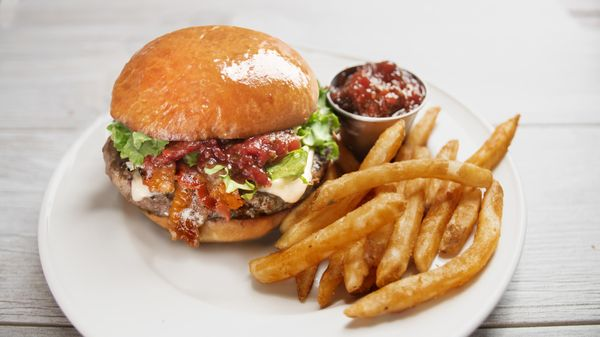soup: (102, 24, 343, 246)
sushi: (326, 61, 429, 163)
